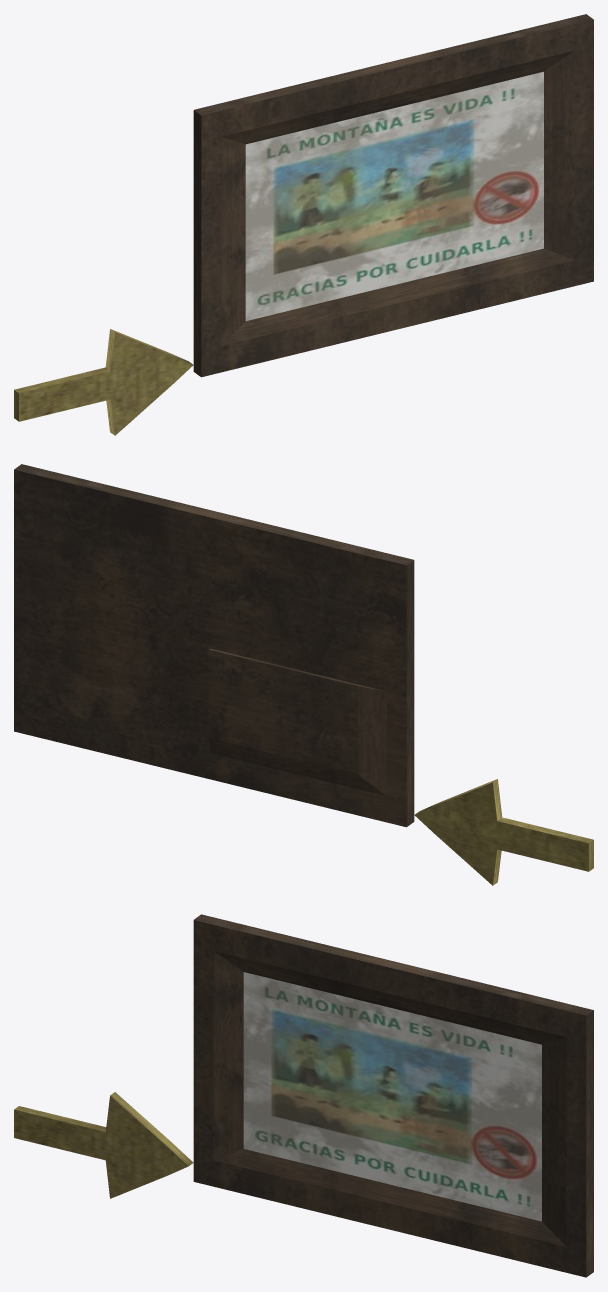
The model's file is letrero-flecha.glb.
The picture shows the model from 3 angles, top to bottom: view 1: azimuth 30°, elevation 25°; view 2: azimuth 150°, elevation 25°; view 3: azimuth 330°, elevation 25°; orthographic projection.
Size of the model in its own units: 10.81 by 5.41 by 0.3008.
3 materials, 3 textured.
